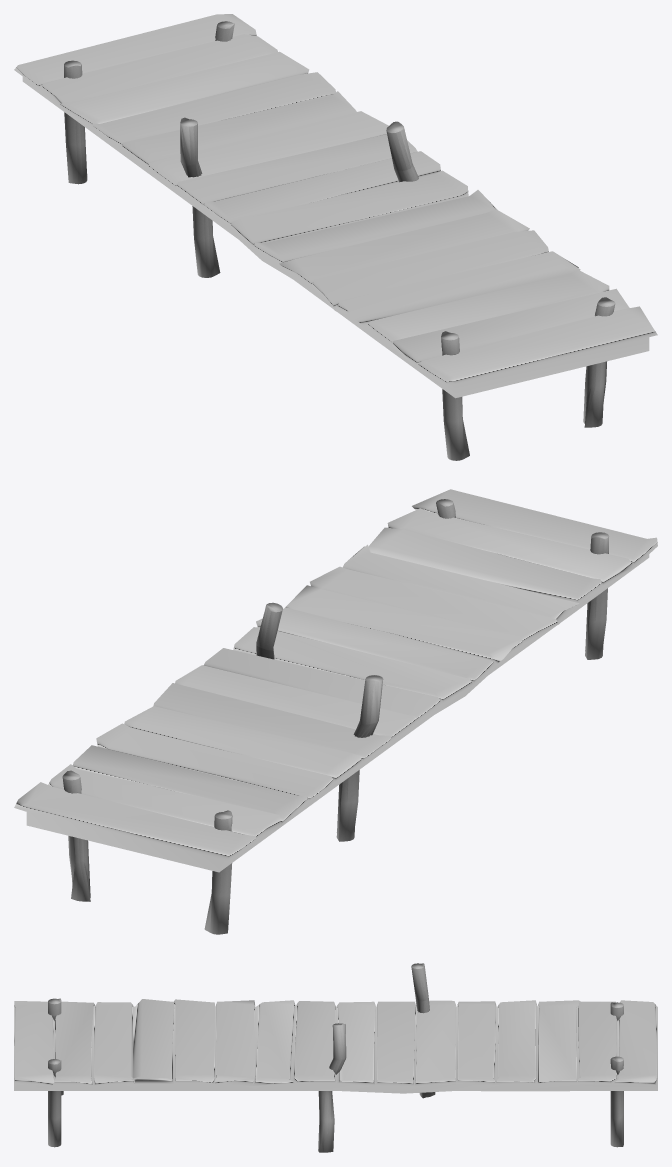
Rendered from Dock.fbx.
3 views of the same model, one above another, from view 1: azimuth 30°, elevation 25°; view 2: azimuth 150°, elevation 25°; view 3: azimuth 270°, elevation 25° (orthographic). The views are drawn at different scales.
Parts seen in each view (by area): view 1: Cube, Cylinder; view 2: Cube, Cylinder; view 3: Cube, Cylinder.
Part boxes in pixels (x1,y1,x2,y2): Cube: (14,14,657,398); Cylinder: (64,21,615,460); Cube: (14,489,657,872); Cylinder: (62,499,608,934); Cube: (14,999,657,1093); Cylinder: (48,963,623,1152).
Bounding box in the file's own units: 4.42 × 3.02 × 14.5.
